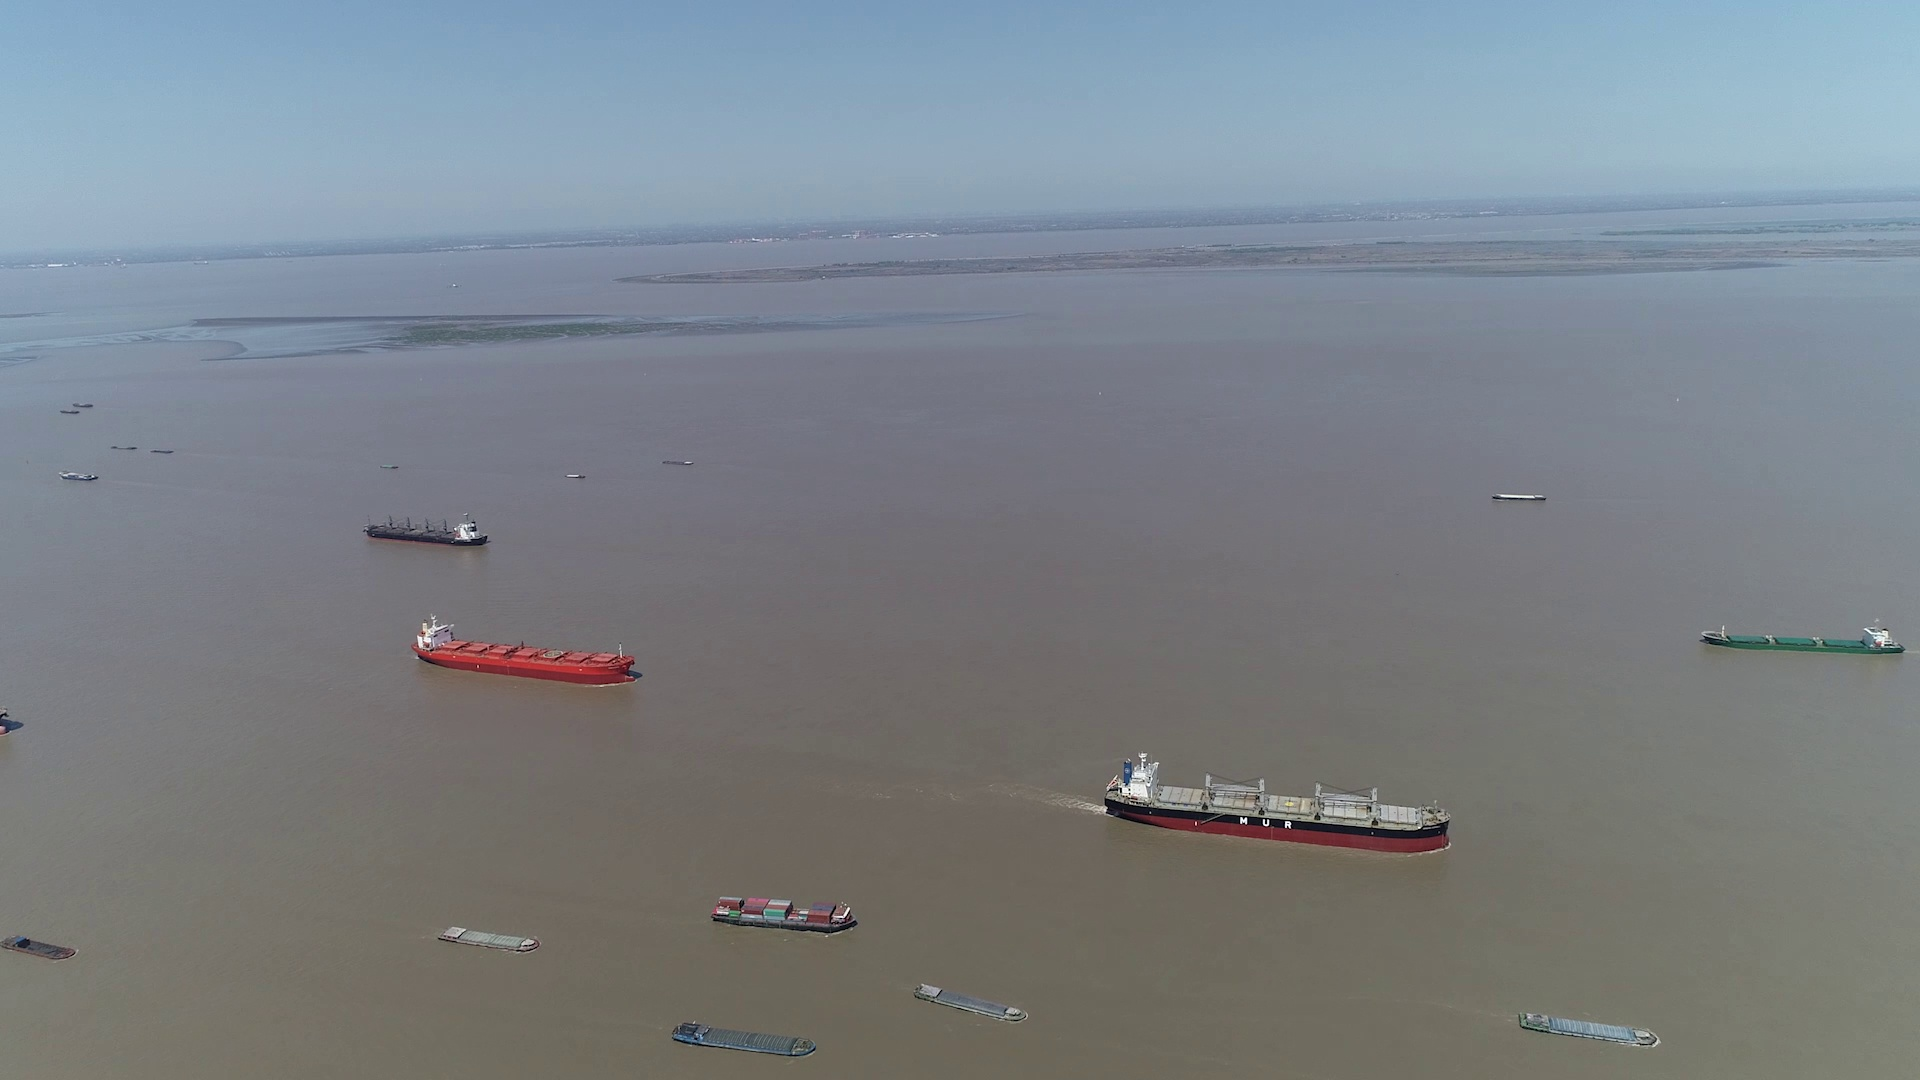ship: (1104, 754, 1451, 852), (411, 618, 634, 684), (1697, 622, 1907, 655), (669, 1022, 818, 1062), (709, 894, 858, 934), (1520, 1011, 1664, 1051), (915, 982, 1029, 1025), (364, 513, 487, 546), (439, 924, 539, 952), (4, 934, 73, 960), (1491, 492, 1545, 502), (58, 469, 98, 481), (564, 472, 584, 480)
